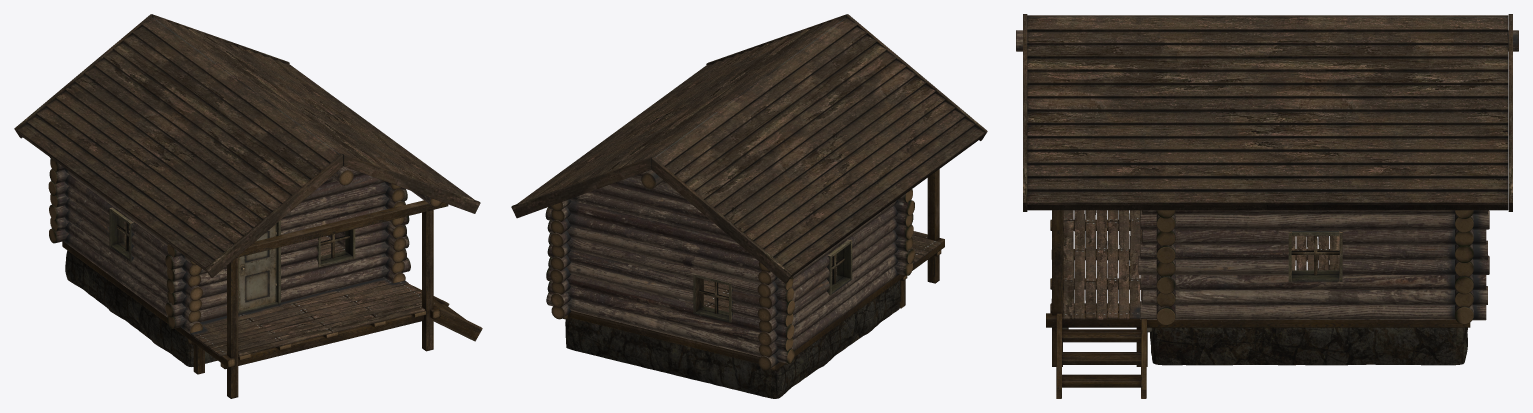
3 views of the same model, side by side, from view 1: azimuth 30°, elevation 25°; view 2: azimuth 150°, elevation 25°; view 3: azimuth 270°, elevation 25° (orthographic). The views are drawn at different scales.
Visible parts, largest first — view 1: Cabin_5, Cabin_Door_3; view 2: Cabin_5; view 3: Cabin_5.
Part boxes in pixels (<box>): Cabin_5: <box>14,14,482,398</box>; Cabin_Door_3: <box>239,224,276,310</box>; Cabin_5: <box>511,14,987,398</box>; Cabin_5: <box>1016,14,1518,398</box>.
Bounding box in the file's own units: 7.7 × 5.89 × 9.1.
